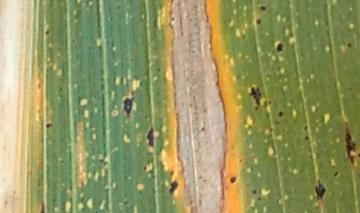tarspot: (343, 120, 357, 165), (247, 84, 263, 107), (312, 178, 327, 201), (122, 96, 135, 118), (146, 126, 155, 148), (168, 180, 179, 194), (38, 200, 46, 213), (44, 120, 53, 130), (275, 41, 283, 52), (254, 17, 263, 26), (228, 176, 237, 184), (258, 4, 267, 12), (58, 158, 66, 166), (199, 125, 207, 133), (170, 14, 176, 24), (303, 134, 310, 142), (98, 157, 105, 165), (346, 86, 354, 93), (36, 81, 41, 91), (277, 110, 284, 117), (44, 29, 51, 36), (57, 86, 63, 94), (332, 171, 339, 177), (251, 189, 257, 196), (274, 119, 280, 126), (70, 38, 77, 44), (253, 106, 259, 112), (256, 196, 262, 202), (302, 124, 307, 131), (169, 170, 174, 177), (123, 199, 128, 206), (129, 56, 134, 63), (346, 42, 351, 48), (142, 165, 147, 171), (87, 45, 92, 51), (156, 67, 160, 73), (357, 151, 360, 158)
